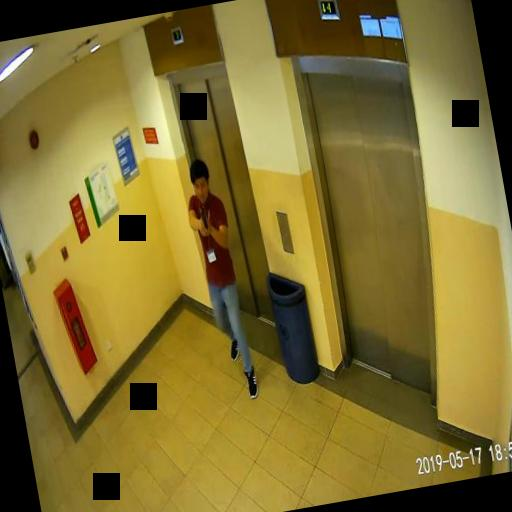Handgun: (195, 202, 208, 232)
